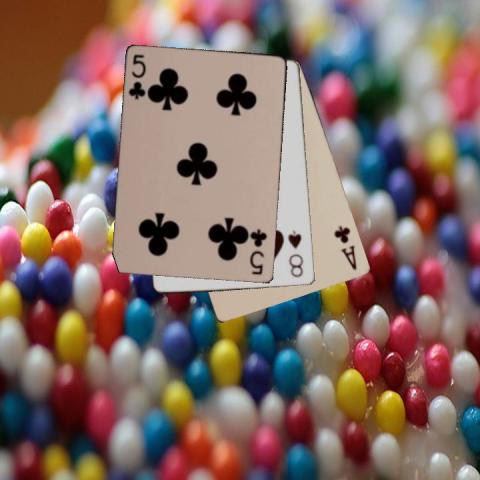5c: (126, 51, 148, 101), (248, 226, 269, 277)
8s: (286, 227, 305, 280)
Ac: (331, 224, 359, 272)
